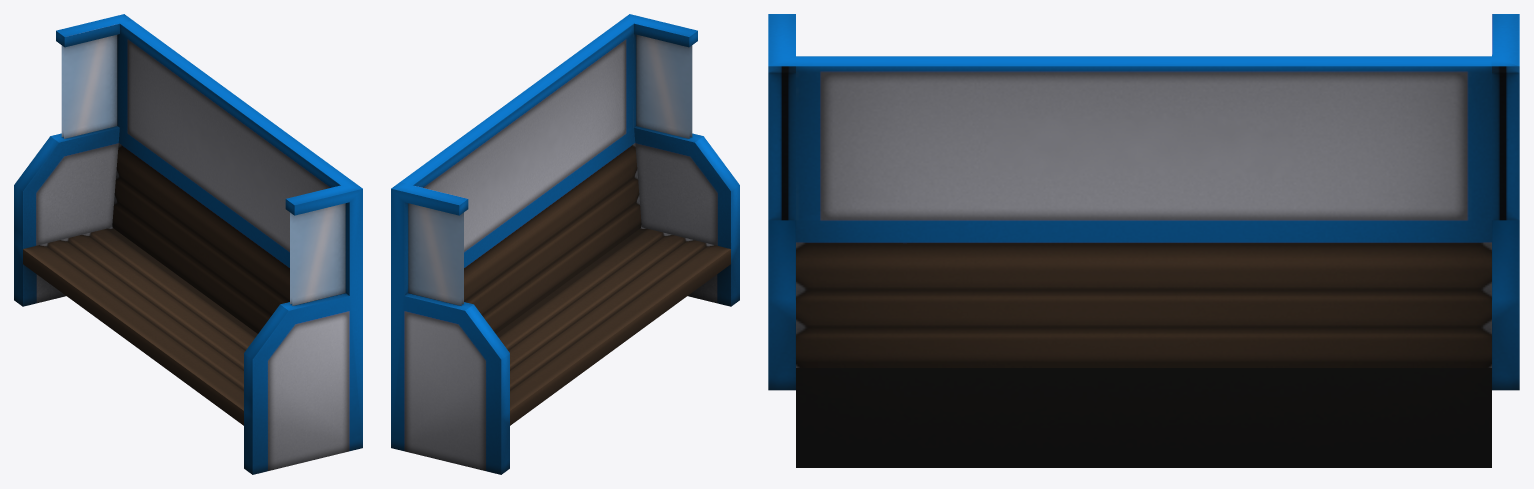
File: KortrijkBench.FBX
3 views of the same model, side by side, from view 1: azimuth 30°, elevation 25°; view 2: azimuth 150°, elevation 25°; view 3: azimuth 270°, elevation 25° (orthographic). The views are drawn at different scales.
Parts seen in each view (by area): view 1: Box002; view 2: Box002; view 3: Box002.
Boxes of the visible parts, bbox=[...] form: Box002: bbox=[14, 14, 362, 474]; Box002: bbox=[391, 14, 739, 474]; Box002: bbox=[768, 14, 1519, 467].
Size of the model in its own units: 80 by 180 by 300.
1 material, 1 textured.
